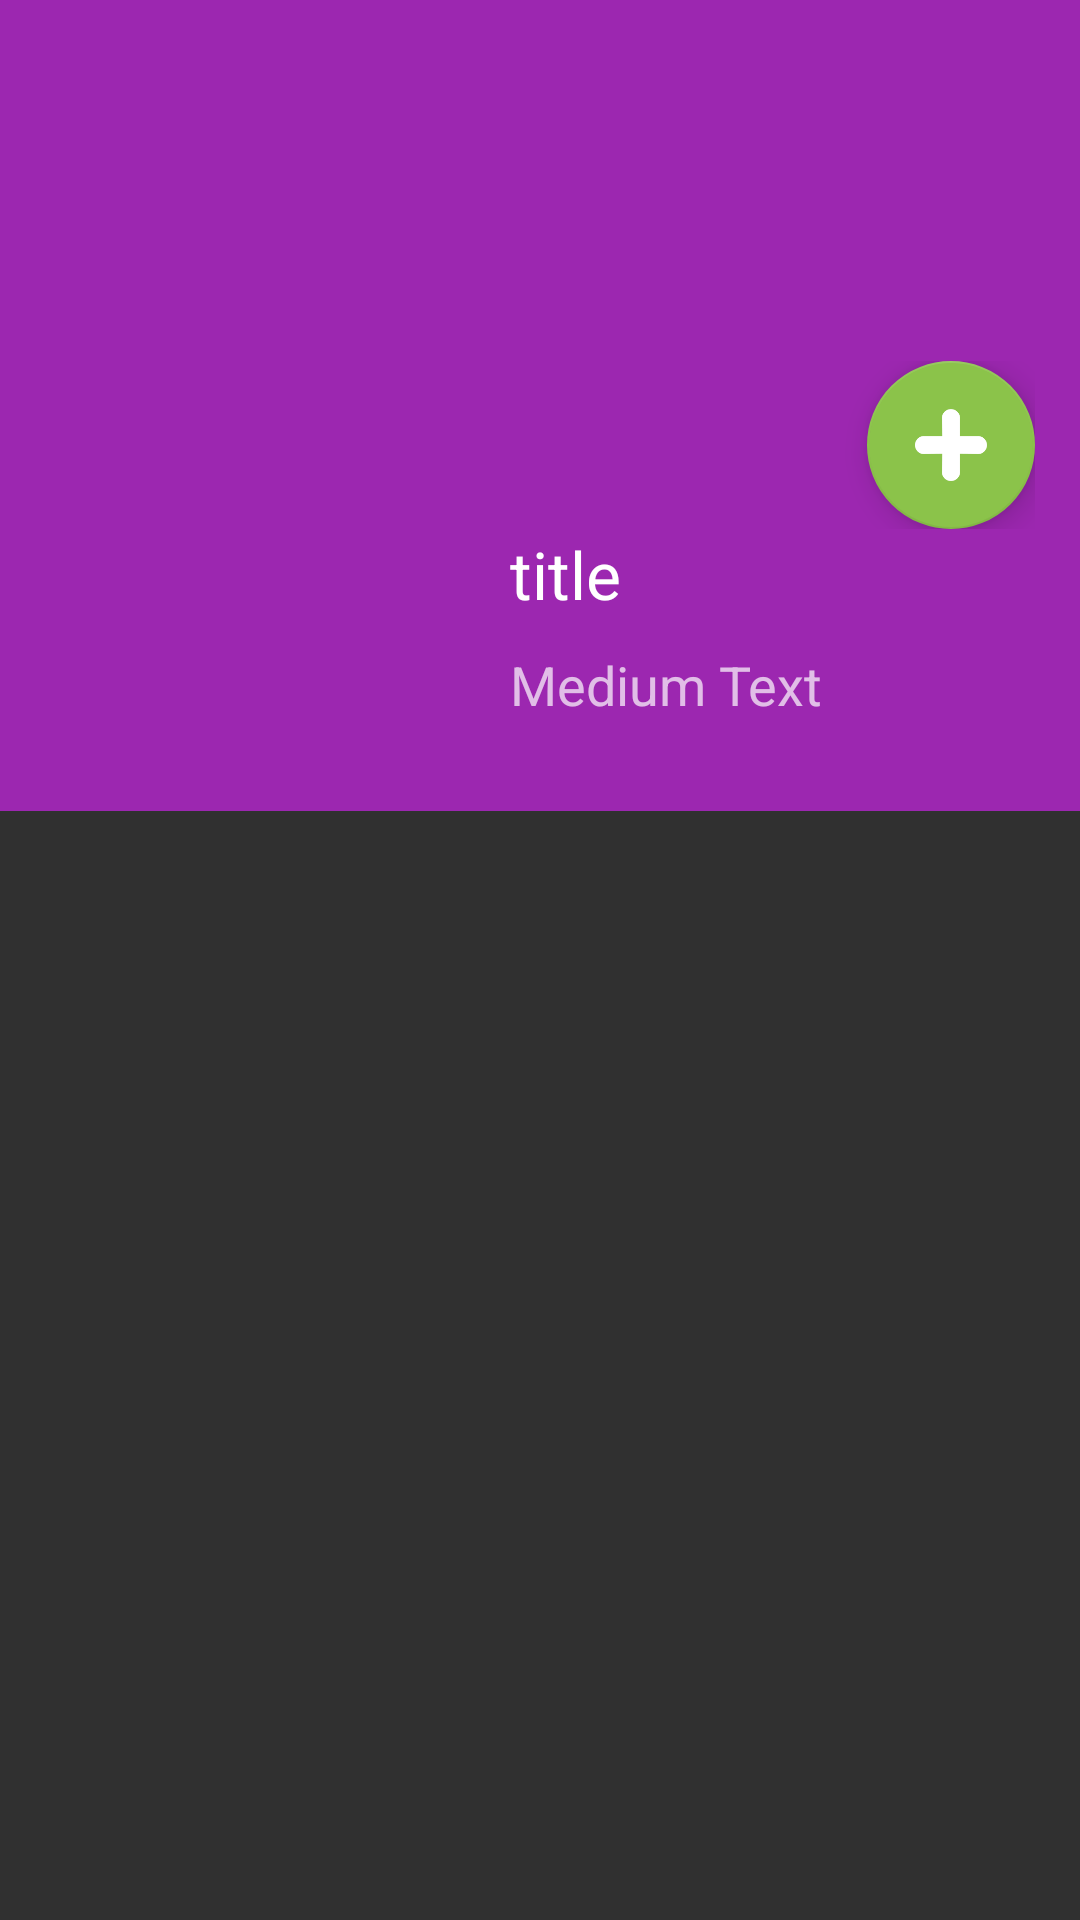

Locate icon controls on the screen. Image size 1080px×1920px, boxes as bbox=[x1, y1, x2, y2].
plus: bbox=[867, 361, 1035, 529]
